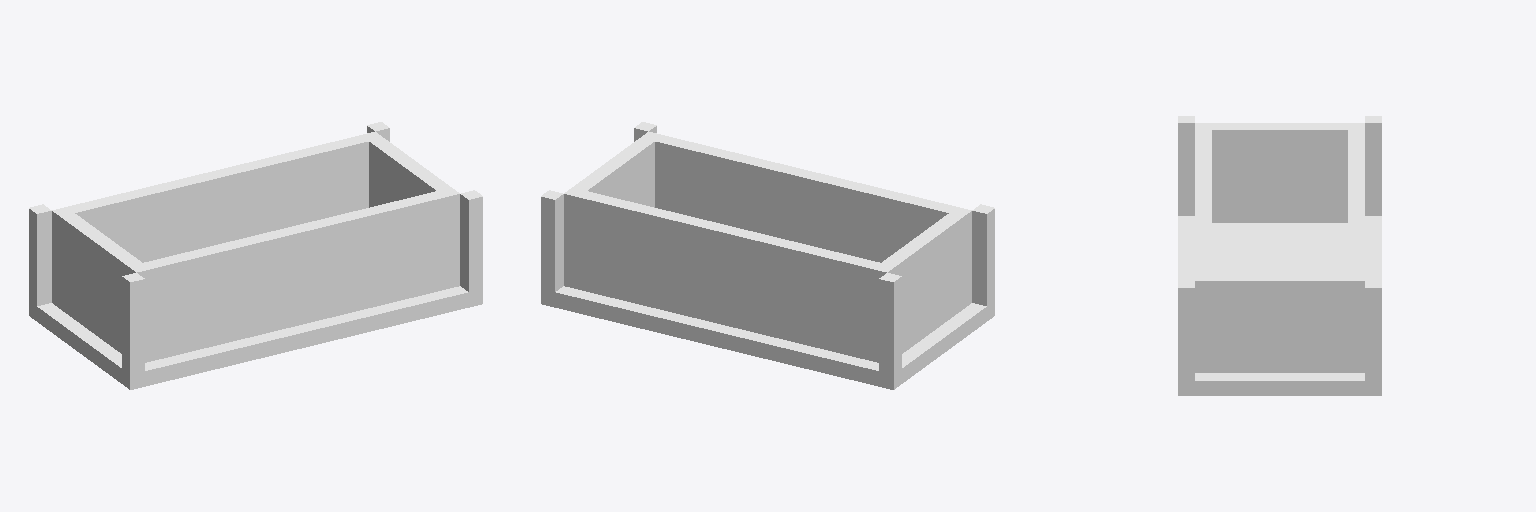
The model's file is Decor-17.obj.
3 views of the same model, side by side, from view 1: azimuth 30°, elevation 25°; view 2: azimuth 150°, elevation 25°; view 3: azimuth 270°, elevation 25° (orthographic).
Parts seen in each view (by area): view 1: object 1; view 2: object 1; view 3: object 1.
Boxes of the visible parts, box(x1,y1,x2,y2) form: object 1: box(29, 122, 482, 389); object 1: box(541, 122, 994, 389); object 1: box(1178, 116, 1381, 395).
Bounding box in the file's own units: 2.4 × 0.7 × 1.2.